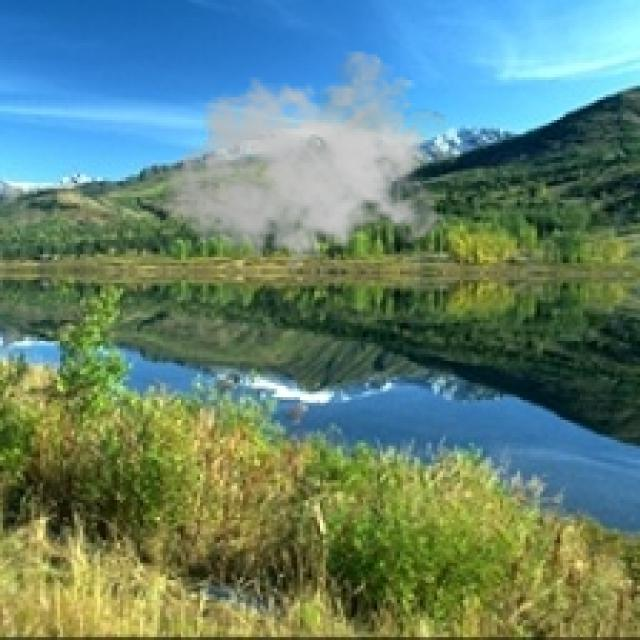smoke: (166, 51, 446, 283)
